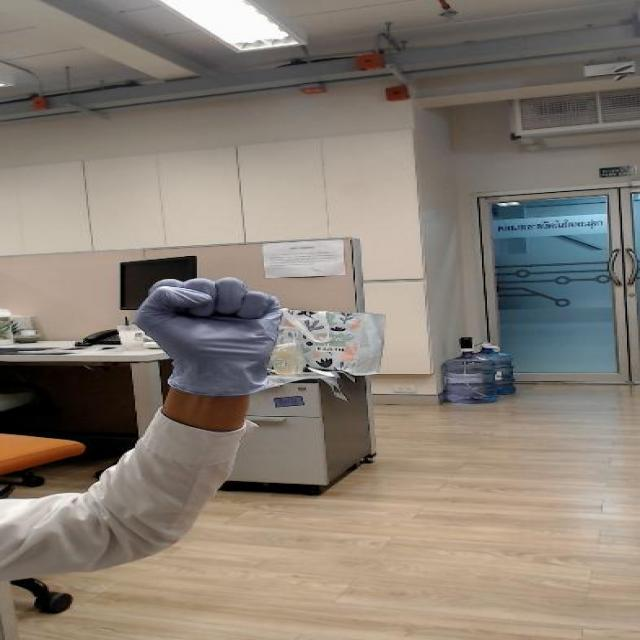Glove: (117, 261, 308, 417)
